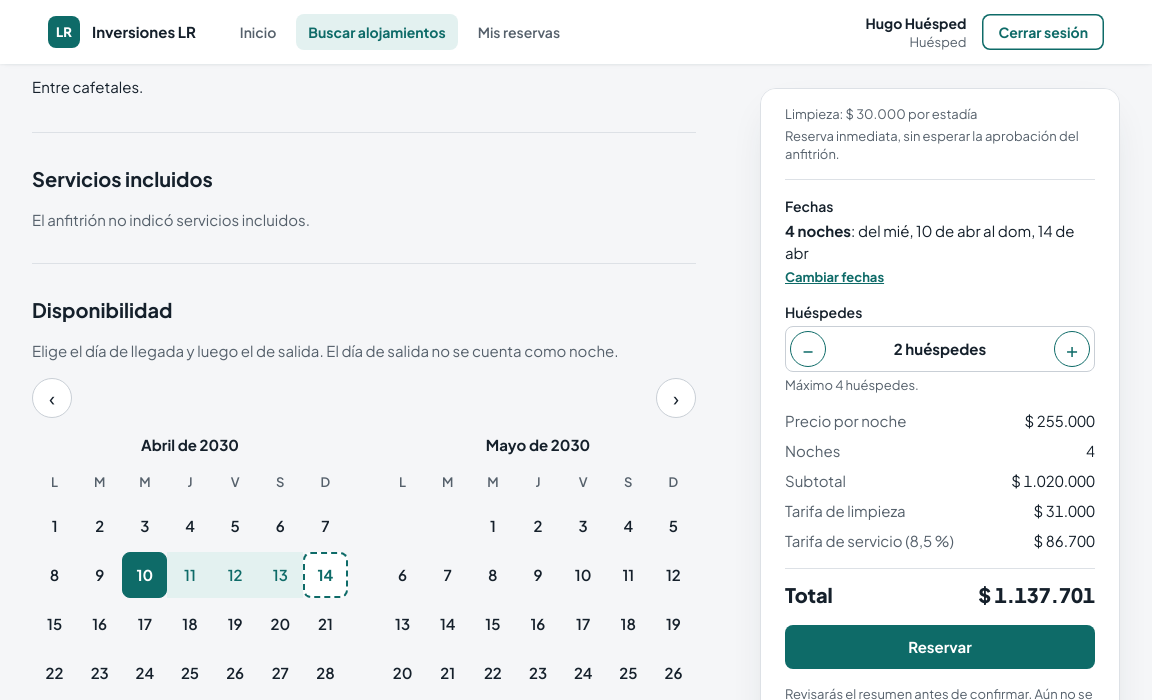
Scenario: Reservar › clave de idempotencia › cambia al cambiar las fechas
The width and height of the screenshot is (1152, 700).
Later steps or results of the test are not shown.
(page scrolled)
Expected: the element named "Desglose del precio" is shown, [785,410,1095,609]
Step 1. Click the button "Reservar" → (940, 647), box [785,625,1095,669]
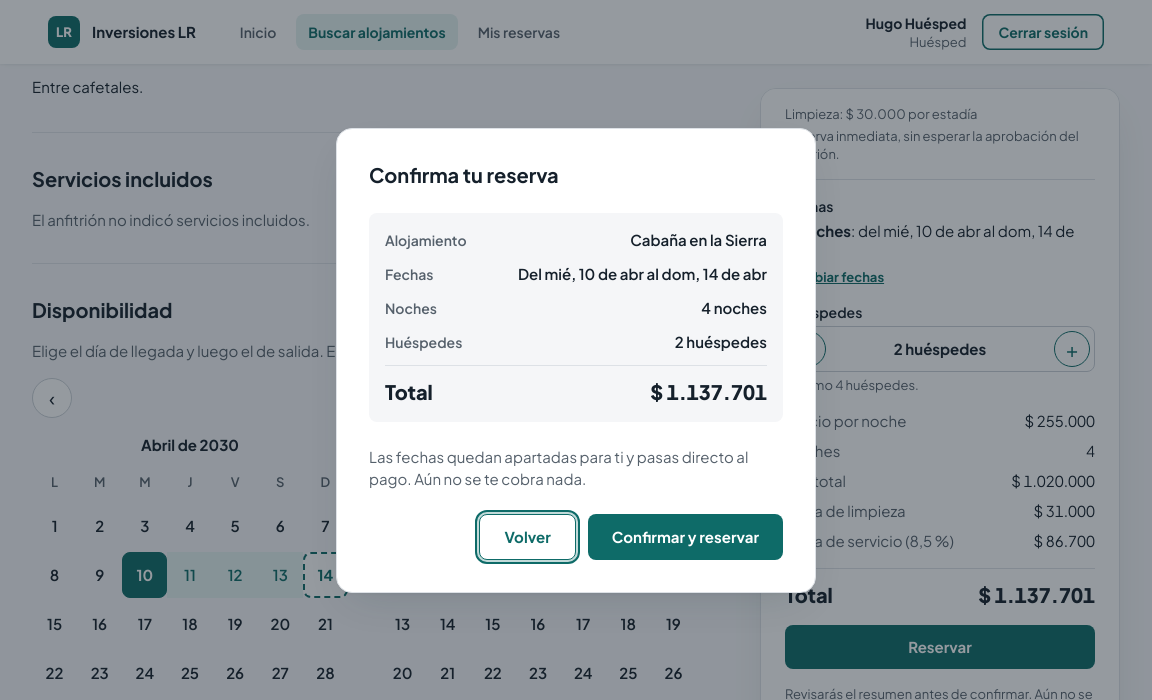
Step 2. Click the button "Confirmar y reservar" → (685, 536), box [588,514,783,560]
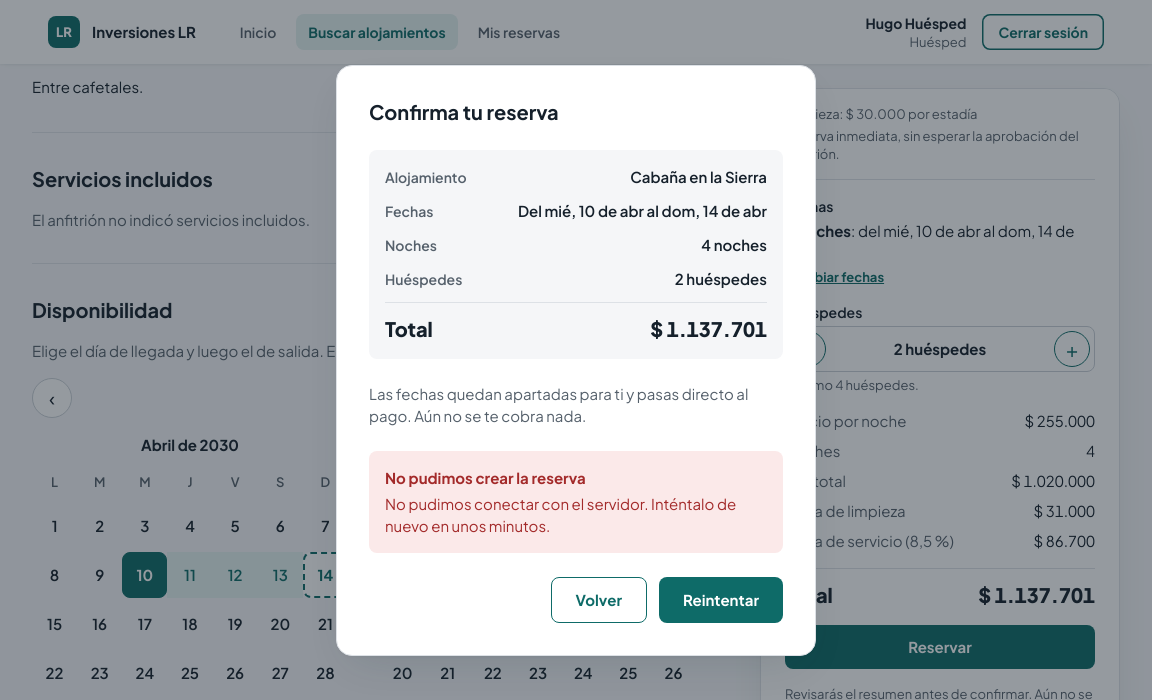
Expected: the message is shown, [369,450,783,552]
